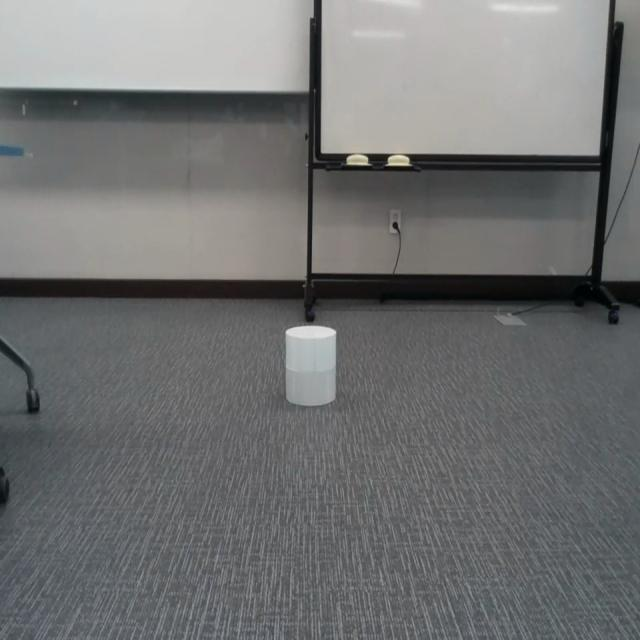cylinder: (284, 325, 336, 405)
